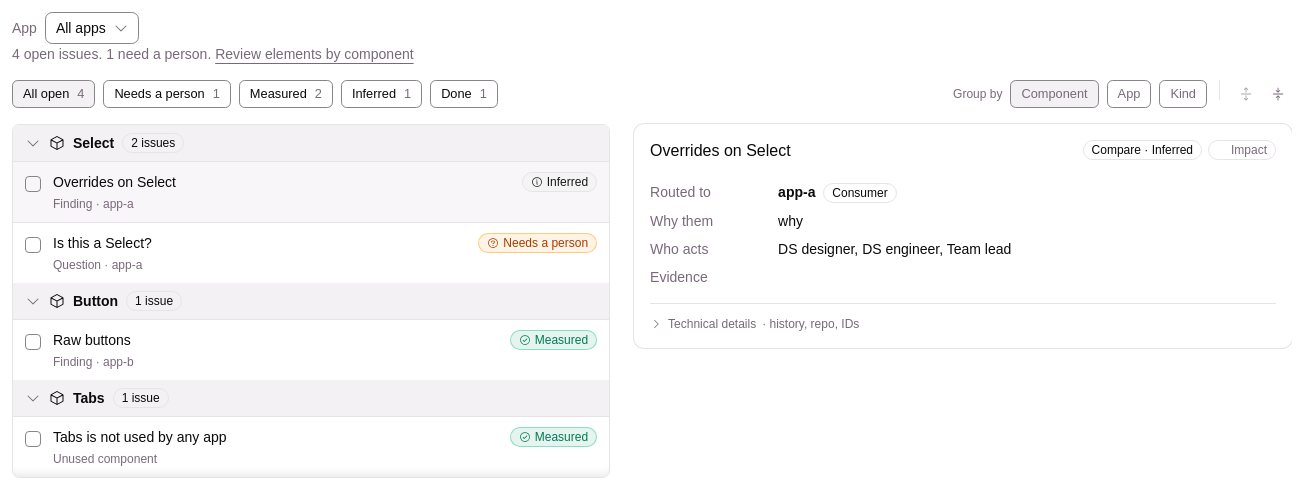
Test: filters count what they show; Done shows only done ones
The width and height of the screenshot is (1304, 495).
Expected: the button "Needs a person 1" is shown, [103, 80, 231, 108]
Click the button "Measured 2" at (286, 94), box [239, 80, 333, 108]
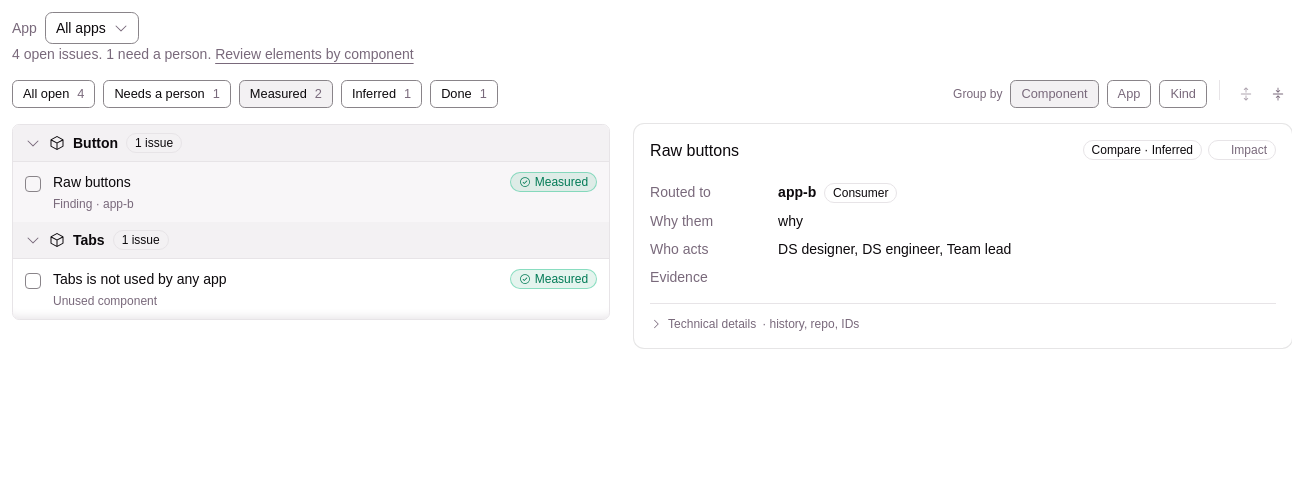
Expected: the text "Raw buttons" is shown, [53, 172, 131, 192]
Now the text "Overrides on Select" is gone
Click the button "Done 1" at (464, 94), box [430, 80, 498, 108]
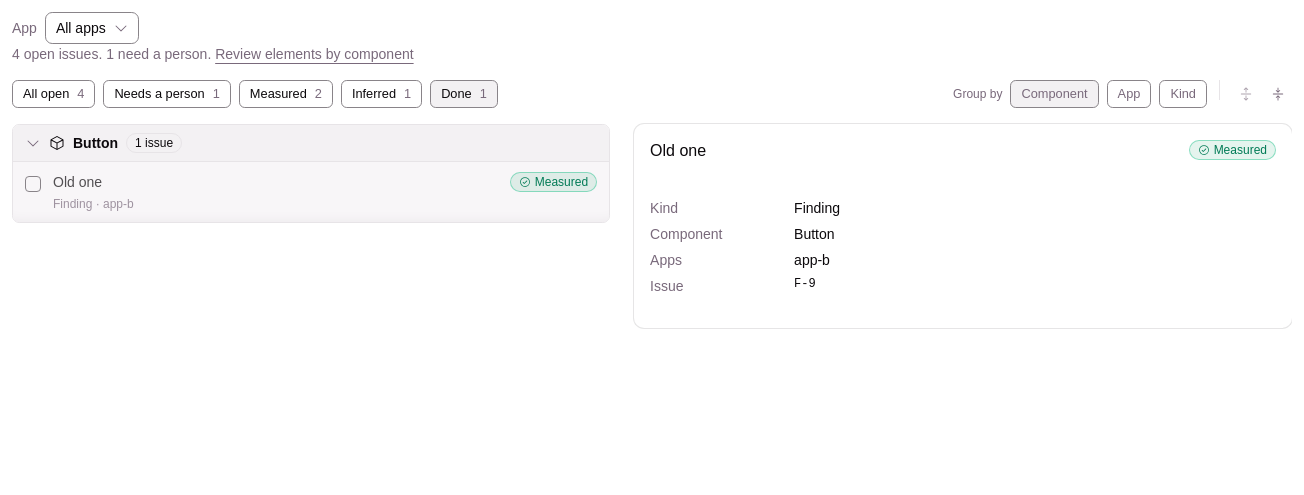
Now the text "Old one" is shown, box [53, 172, 102, 192]
Now the text "Raw buttons" is gone
